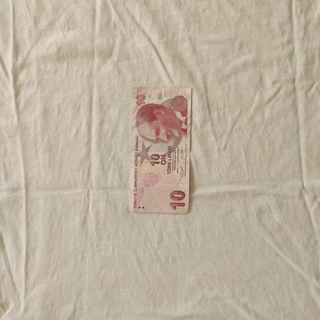10TLFront: (127, 85, 192, 214)
